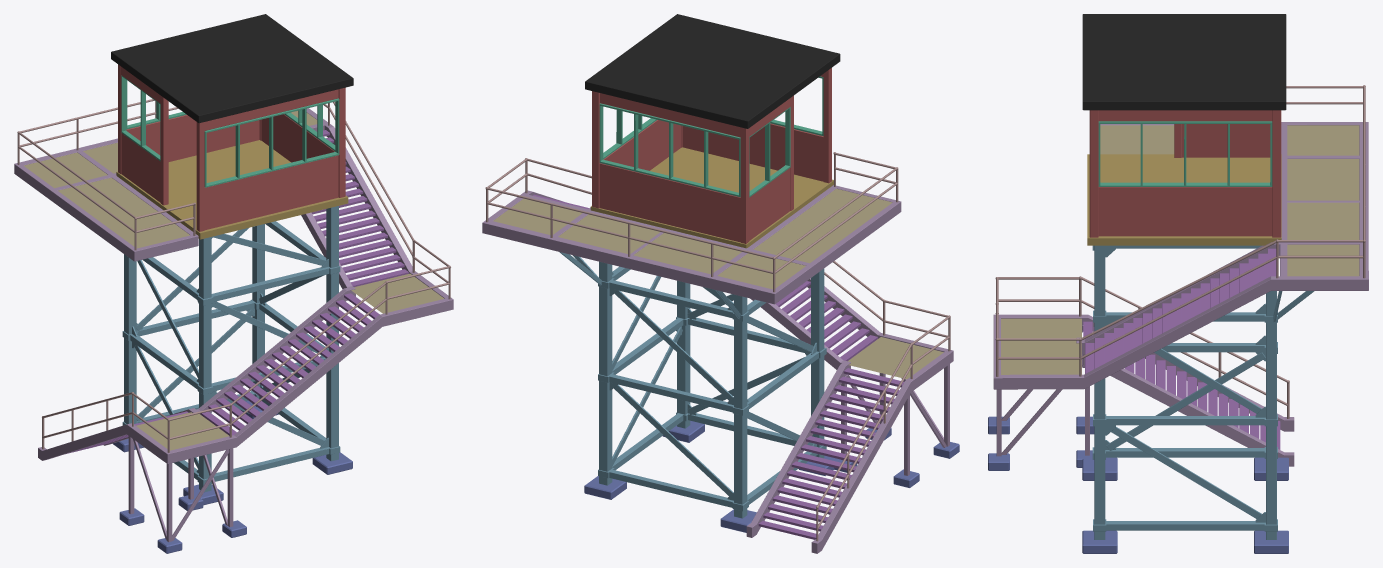
File: Observatory_big_high.fbx
3 views of the same model, side by side, from view 1: azimuth 30°, elevation 25°; view 2: azimuth 150°, elevation 25°; view 3: azimuth 270°, elevation 25° (orthographic). The views are drawn at different scales.
Visible parts, largest first — view 1: Observer_big; view 2: Observer_big; view 3: Observer_big.
Part boxes in pixels (x1,y1,x2,y2): Observer_big: (14, 14, 453, 553); Observer_big: (482, 14, 959, 553); Observer_big: (988, 14, 1368, 553).
Size of the model in its own units: 535 by 691 by 525.
